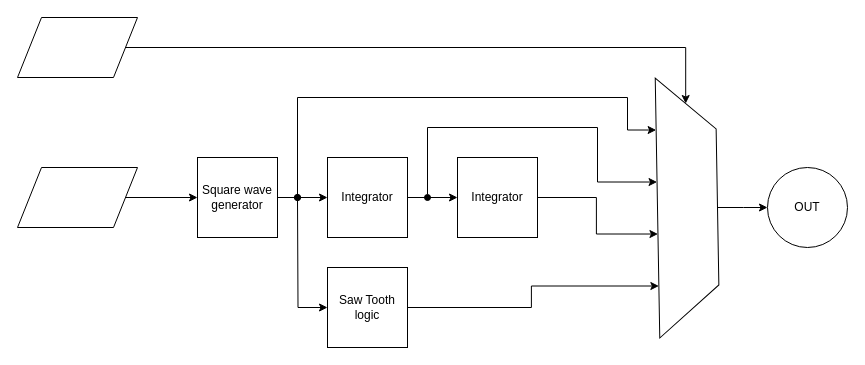
Some shapes in this 865 by 365 pixel diagram are drawn without their labels. Each missing label, with the box of its shape:
Frequency: (16, 166, 138, 228)
Waveform select: (16, 16, 138, 78)
